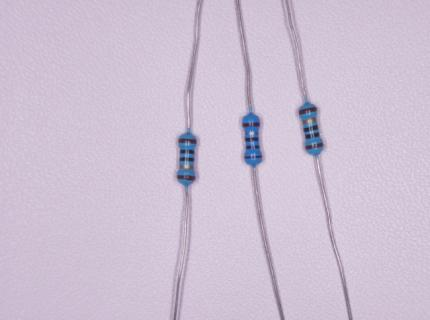Black band: (303, 124, 319, 133), (305, 132, 320, 140), (179, 157, 195, 162), (245, 137, 259, 142), (180, 150, 194, 154), (246, 145, 260, 149)
Brown band: (298, 106, 316, 116), (305, 142, 324, 150), (176, 175, 196, 181), (178, 138, 197, 144), (242, 122, 261, 128), (244, 156, 263, 159)
Gold band: (302, 117, 317, 125), (179, 164, 194, 169), (245, 132, 259, 135)
